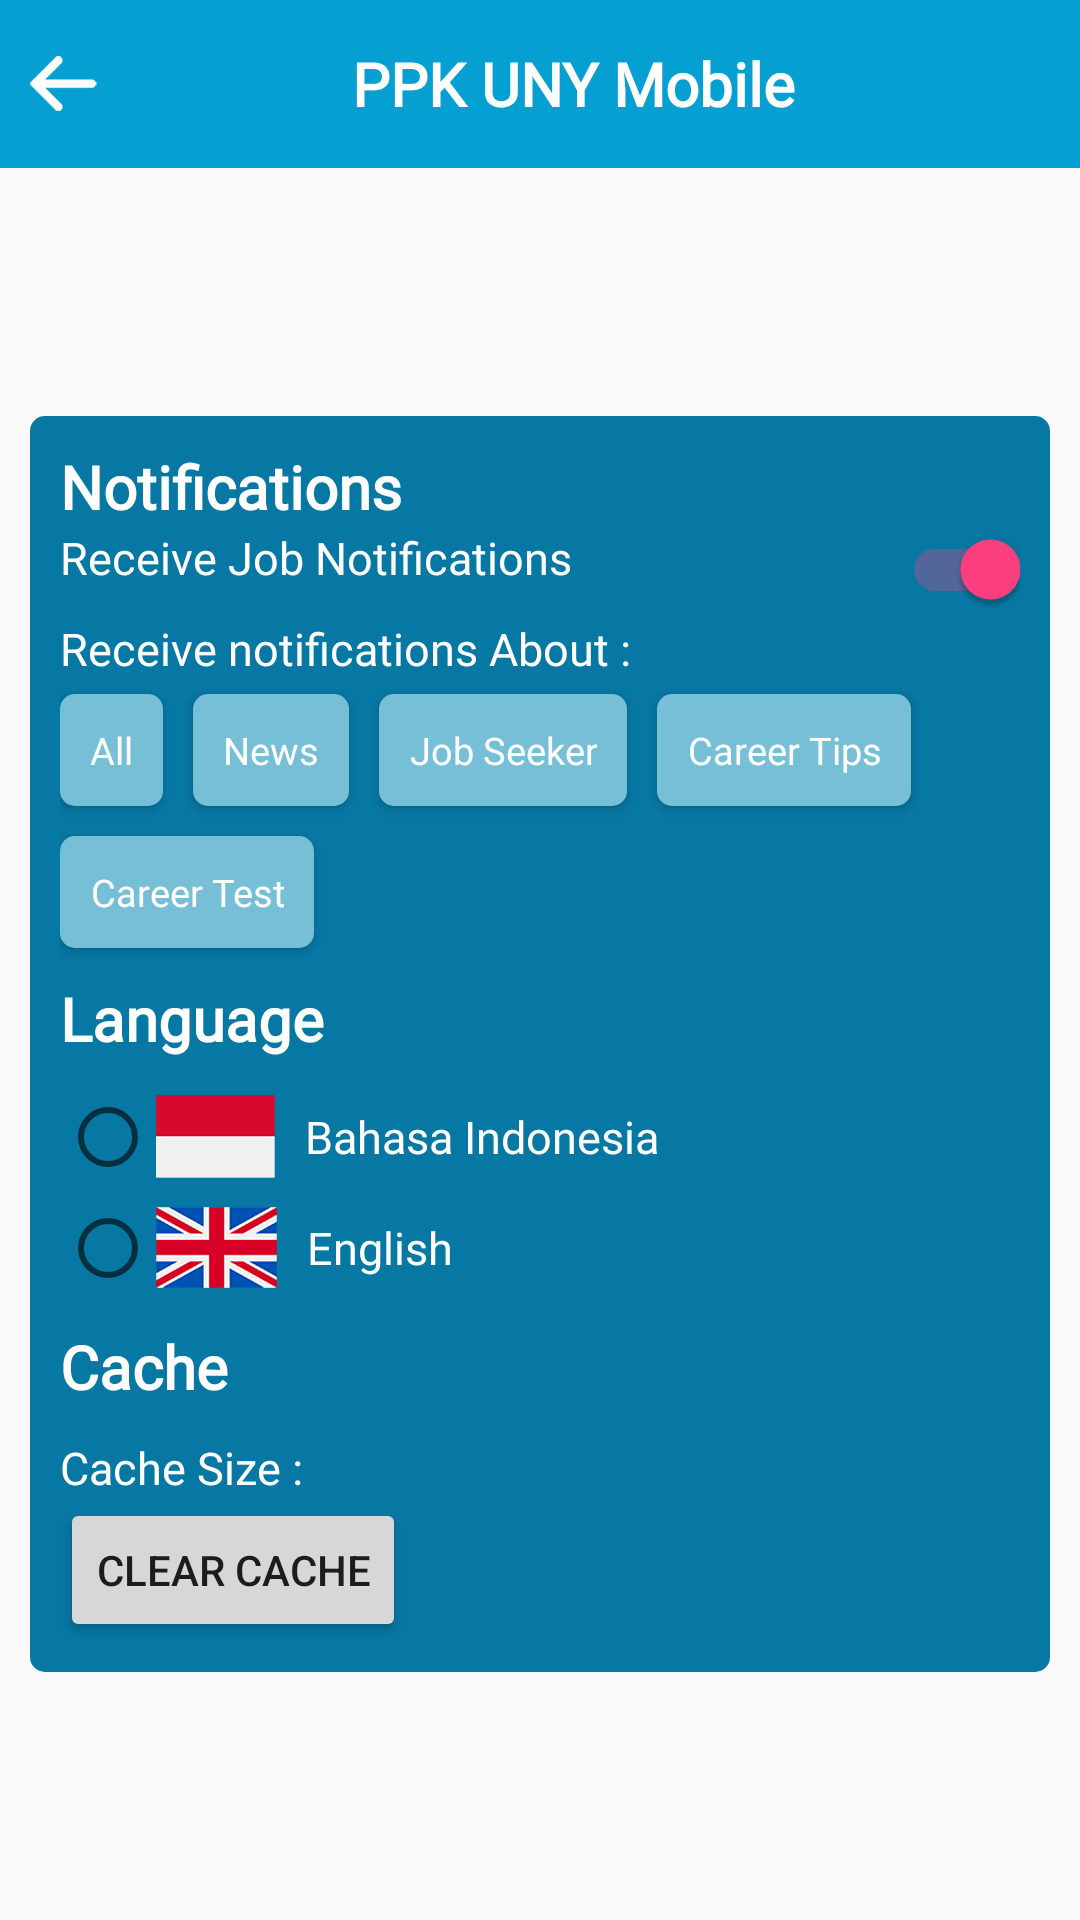

Icons on this 1080px×1920px Android screen, each with its box as (x1, y1, x2, y2):
back: (30, 56, 97, 111)
